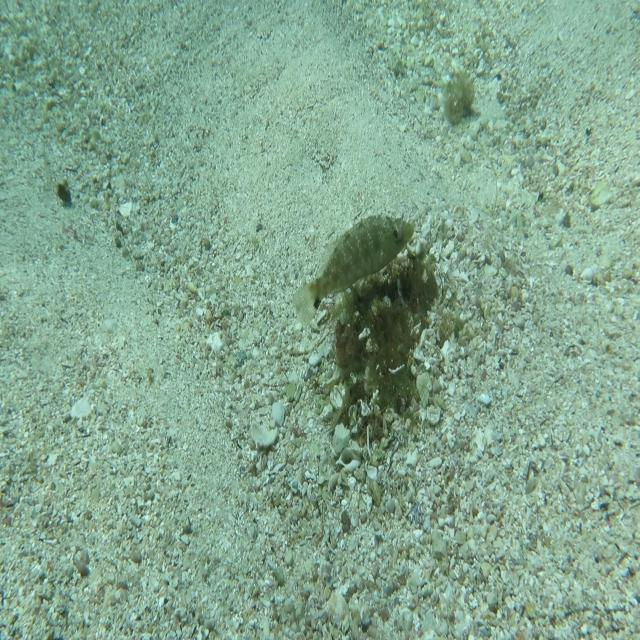FAN: (291, 214, 415, 328)
core_nest: (382, 264, 426, 306)
nest: (315, 227, 445, 435)
vegetation: (444, 61, 474, 128), (52, 177, 74, 209)
